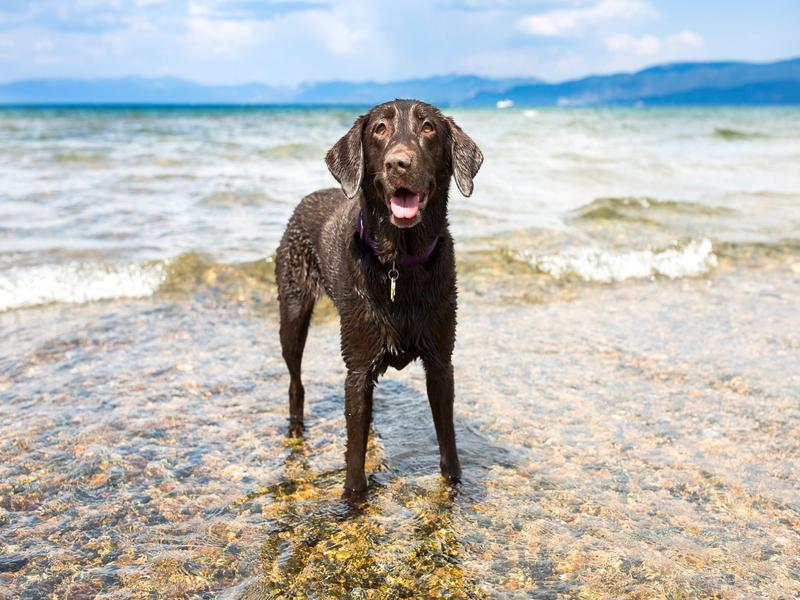dog_stand: (266, 95, 487, 523)
